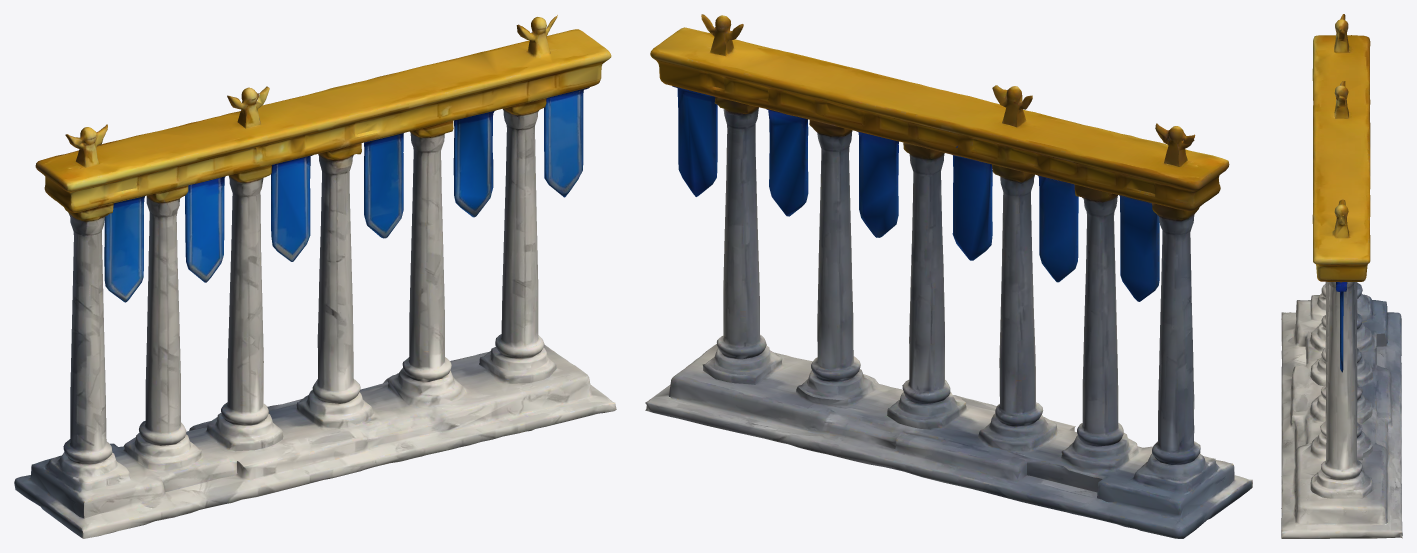
File: colonnade.glb
The picture shows the model from 3 angles, left to right: view 1: azimuth 30°, elevation 25°; view 2: azimuth 150°, elevation 25°; view 3: azimuth 270°, elevation 25°; orthographic projection. The views are drawn at different scales.
Visible parts, largest first — view 1: tripo_node_f863b078; view 2: tripo_node_f863b078; view 3: tripo_node_f863b078.
Part boxes in pixels (x1,y1,x2,y2): tripo_node_f863b078: [14, 15, 616, 538]; tripo_node_f863b078: [645, 14, 1252, 538]; tripo_node_f863b078: [1281, 14, 1402, 538].
Size of the model in its own units: 99.96 by 65.71 by 22.78.
Materials: 1 (1 with a texture image).
